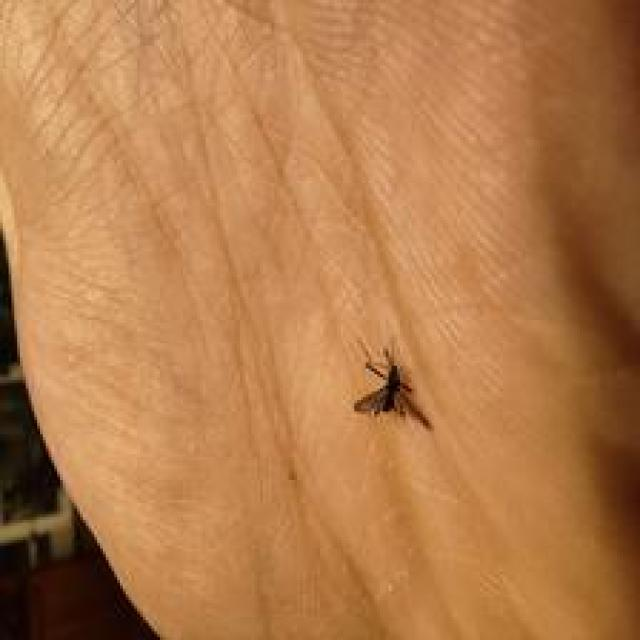Aedes albopictus: (353, 344, 433, 430)
